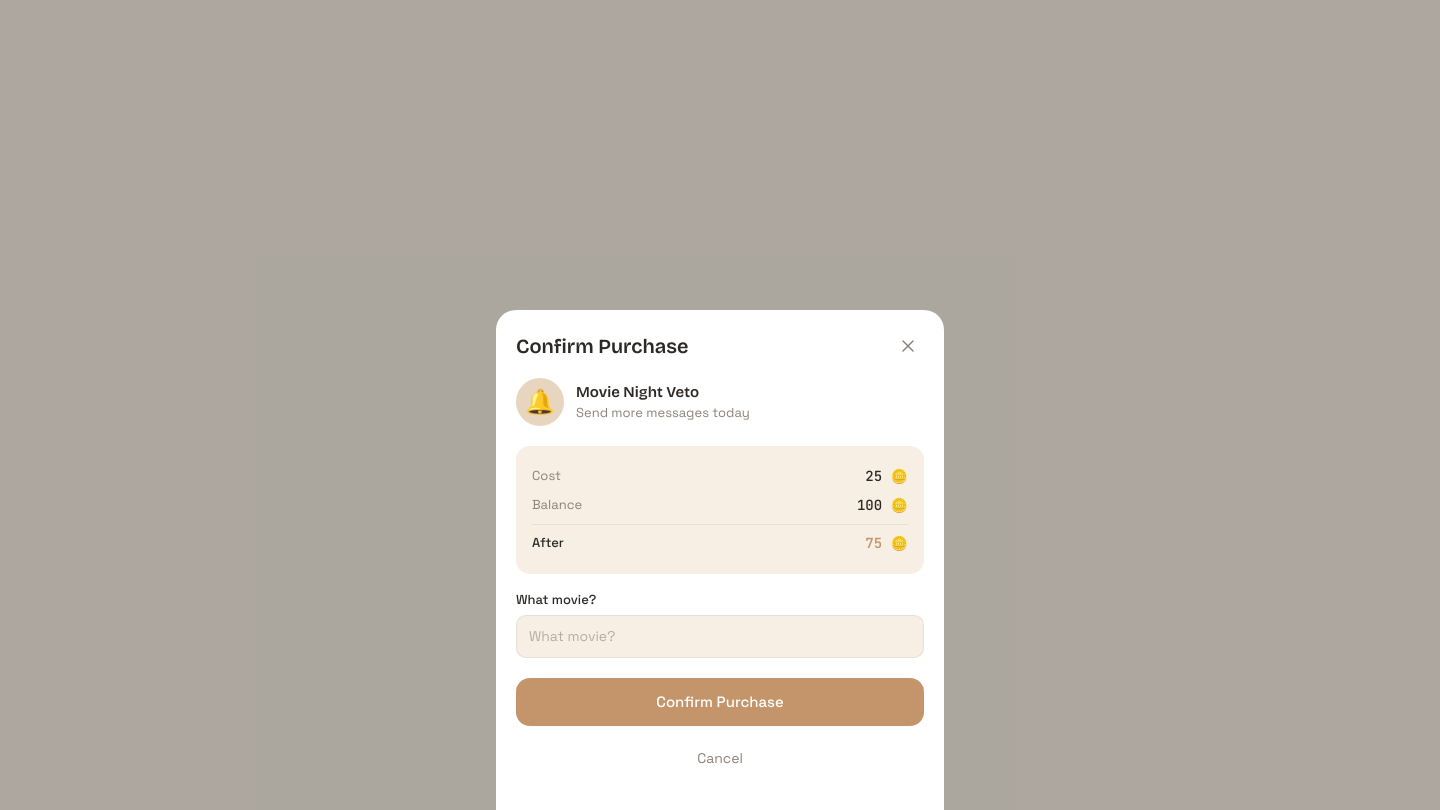
Test: PurchaseConfirmModal › validates input is not empty when required
This screenshot has width=1440, height=810.
Click the button with test id "purchase-confirm". click: (720, 702)
box: x1=516 y1=678 x2=924 y2=726
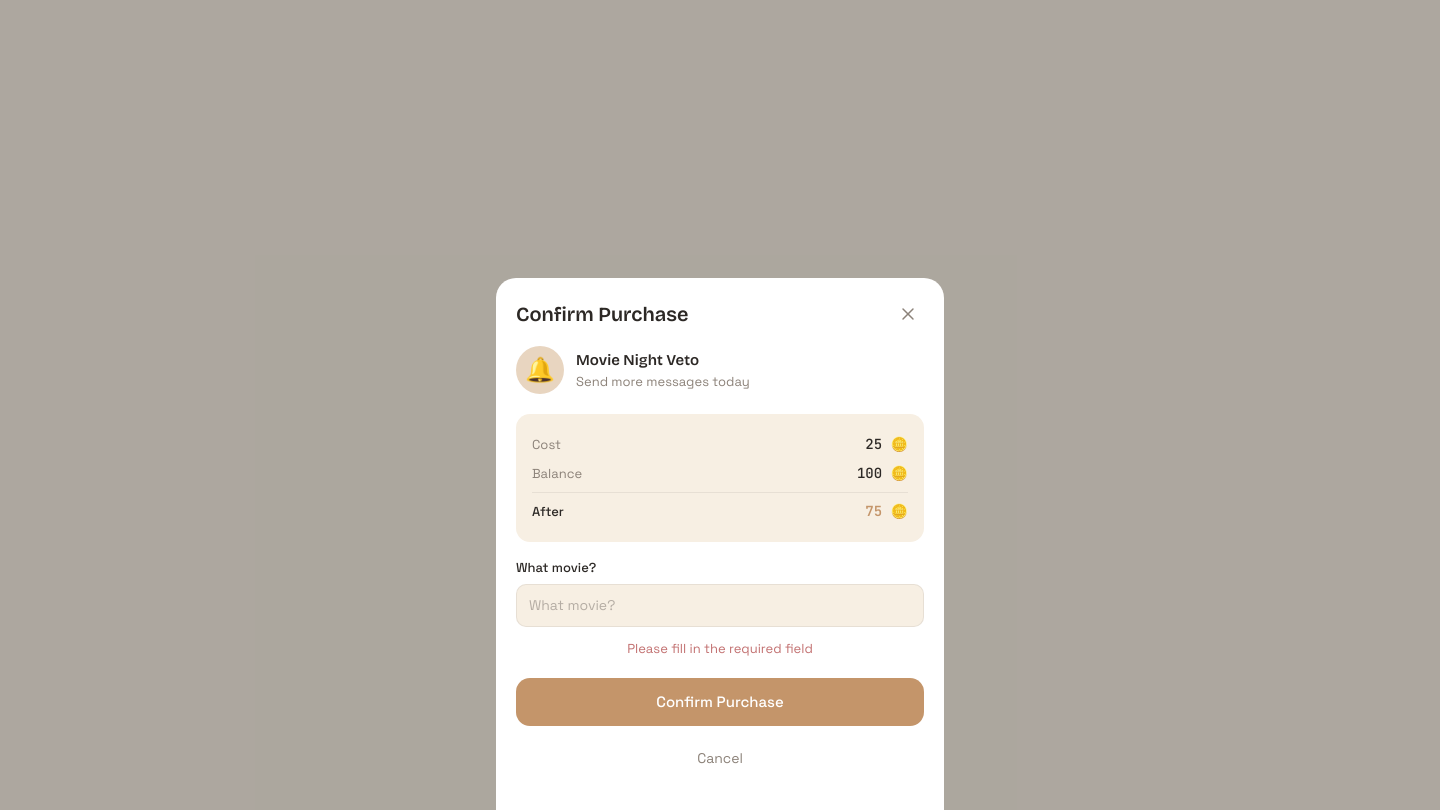
Now the text with test id "purchase-error" reads "Please fill in the required field", box x1=627 y1=640 x2=813 y2=656
